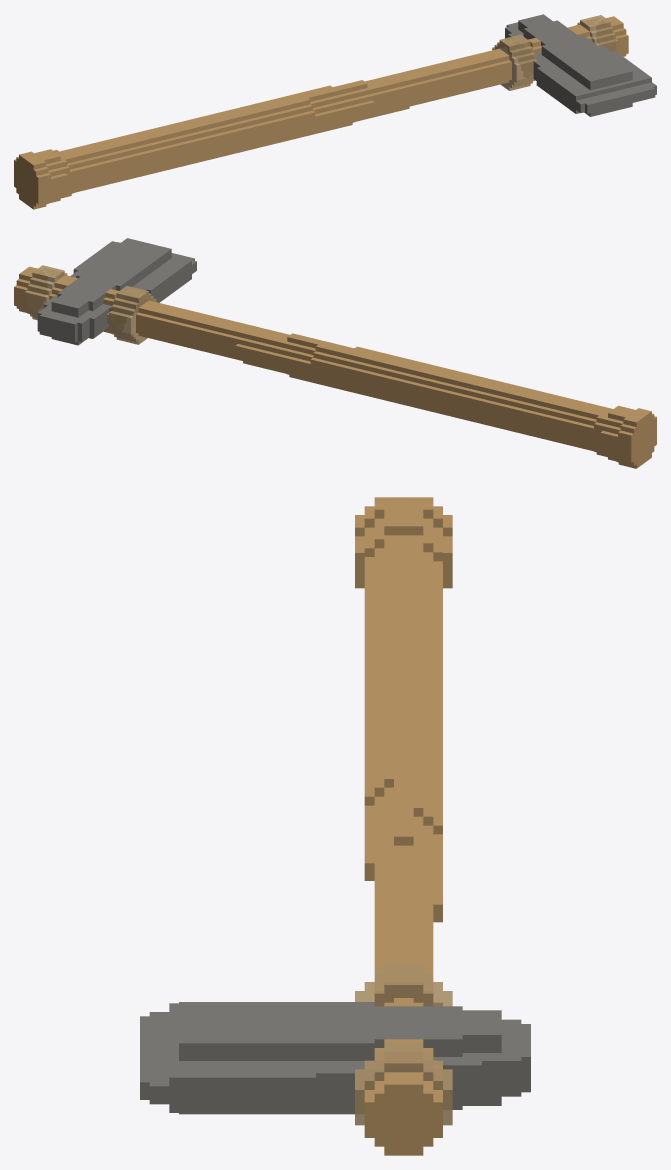
The model's file is primitive_axe.glb.
The picture shows the model from 3 angles, top to bottom: view 1: azimuth 30°, elevation 25°; view 2: azimuth 150°, elevation 25°; view 3: azimuth 270°, elevation 25°; orthographic projection. The views are drawn at different scales.
Visible parts, largest first — view 1: primitive_axe:compound; view 2: primitive_axe:compound; view 3: primitive_axe:compound.
Boxes of the visible parts, <box> form: primitive_axe:compound: <box>14,14,656,209</box>; primitive_axe:compound: <box>14,238,656,468</box>; primitive_axe:compound: <box>140,497,530,1155</box>.
Bounding box in the file's own units: 0.56 × 0.04 × 0.16.
